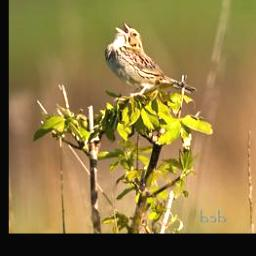Sparrow: (104, 20, 198, 100)
